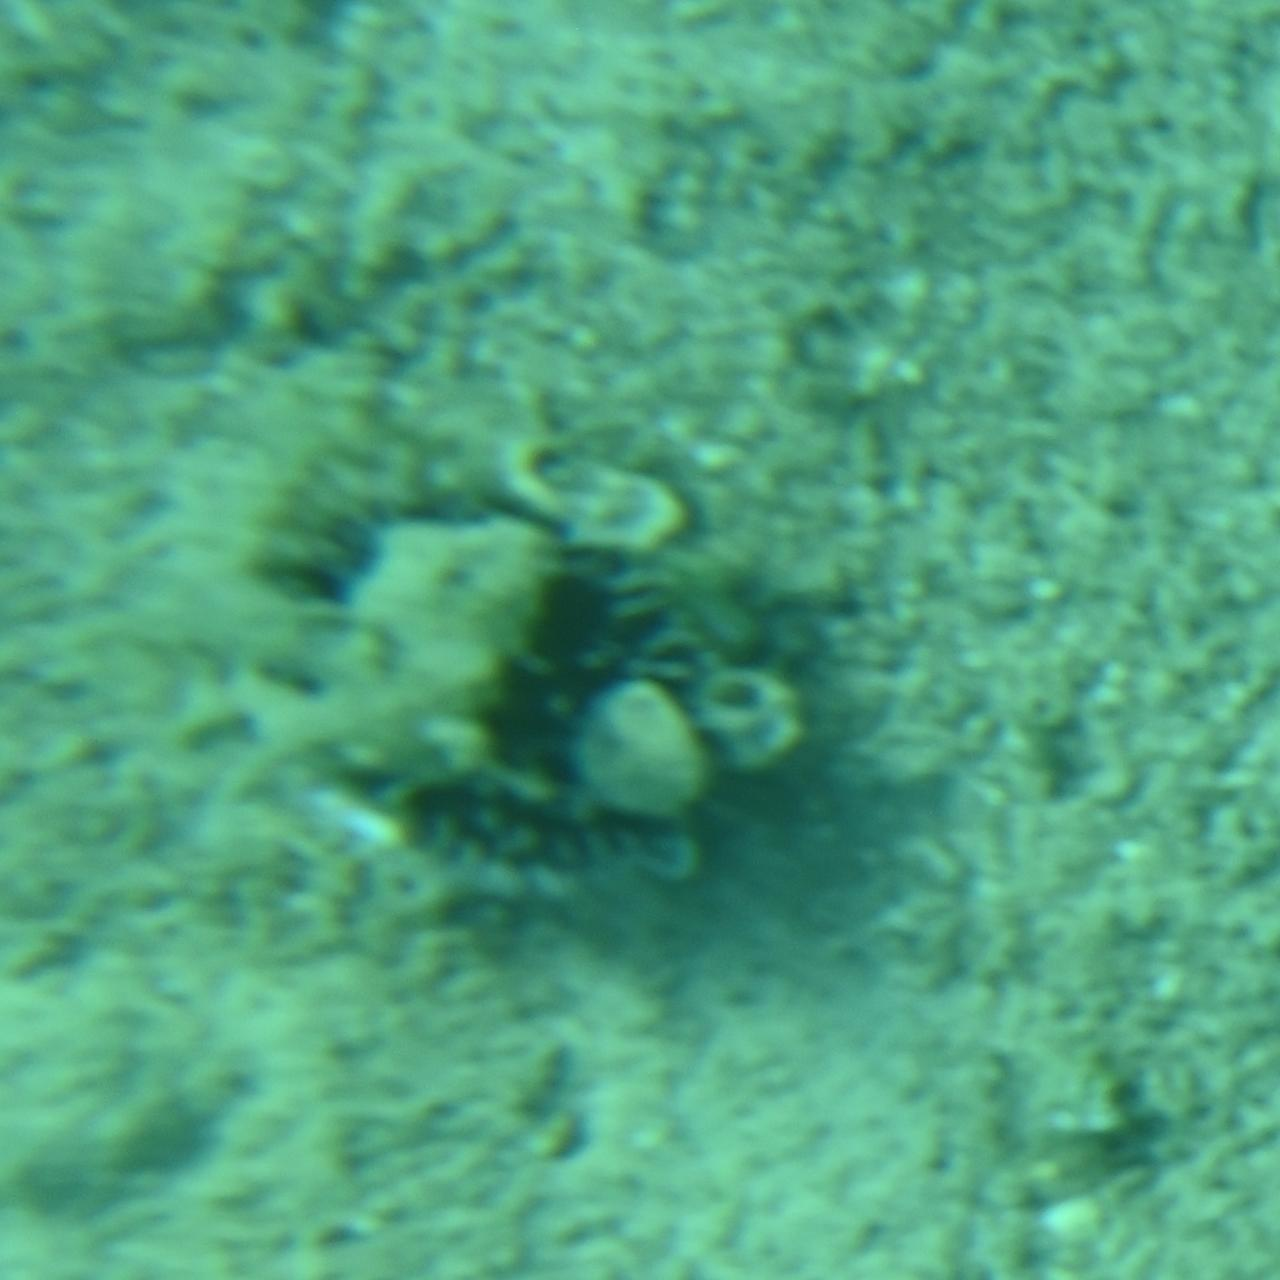Sphaerechinus granularis: (148, 350, 852, 930)
